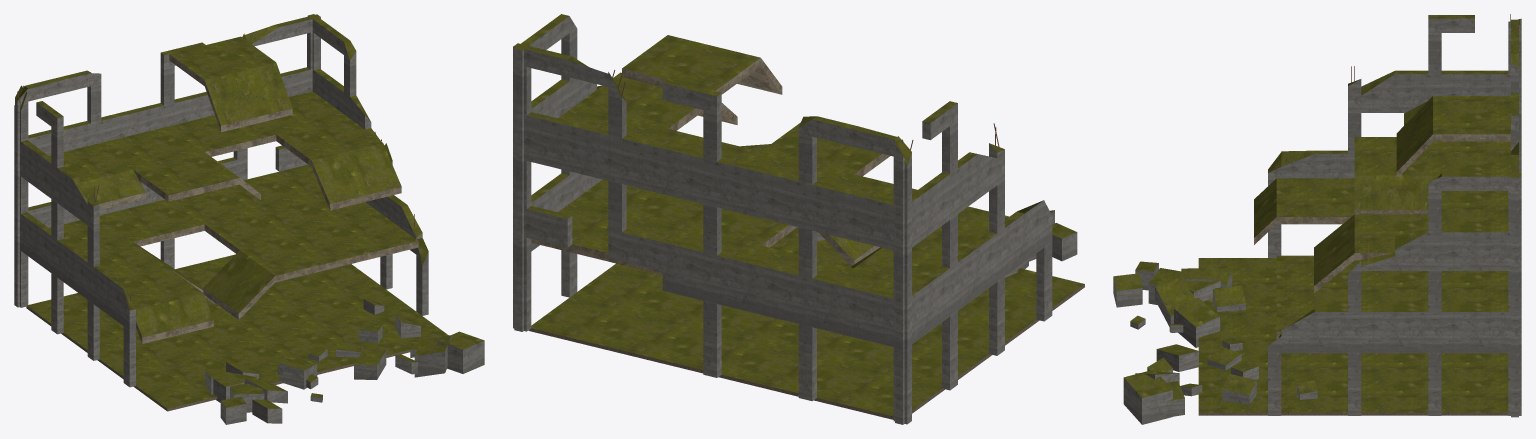
File: bld_c.gltf
3 renders of one model, left to right at view 1: azimuth 30°, elevation 25°; view 2: azimuth 150°, elevation 25°; view 3: azimuth 270°, elevation 25°, orthographic. The views are drawn at different scales.
Parts seen in each view (by area): view 1: bld_c; view 2: bld_c; view 3: bld_c.
Part boxes in pixels (x1,y1,x2,y2): bld_c: (14,14,484,424); bld_c: (513,14,1084,424); bld_c: (1113,14,1521,424).
Size of the model in its own units: 14.54 by 10.46 by 15.3.
